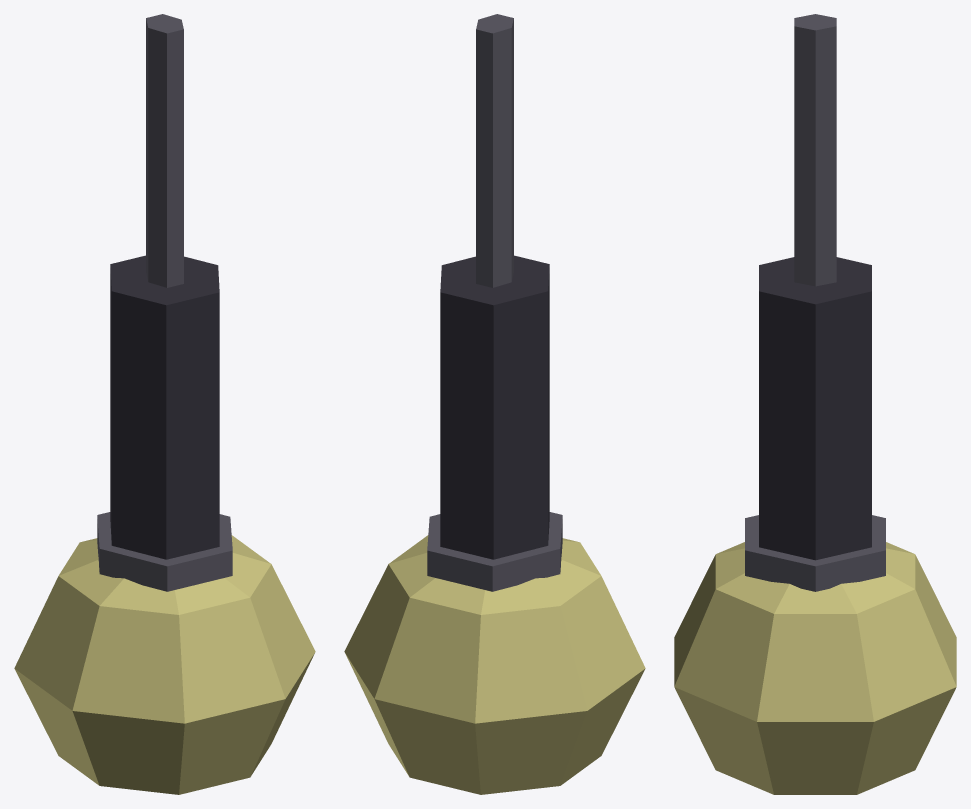
The model's file is Lamp.fbx.
3 renders of one model, left to right at view 1: azimuth 30°, elevation 25°; view 2: azimuth 150°, elevation 25°; view 3: azimuth 270°, elevation 25°, orthographic.
Parts seen in each view (by area): view 1: sphere, cylinder_1, cylinder, cylinder_2; view 2: sphere, cylinder_1, cylinder, cylinder_2; view 3: sphere, cylinder_1, cylinder, cylinder_2.
Boxes of the visible parts, box(x1,y1,x2,y2) form: sphere: box(14, 535, 315, 794); cylinder_1: box(110, 255, 219, 559); cylinder: box(146, 14, 183, 287); cylinder_2: box(97, 512, 232, 591); sphere: box(344, 535, 645, 794); cylinder_1: box(440, 255, 549, 559); cylinder: box(476, 14, 513, 287); cylinder_2: box(427, 512, 562, 591); sphere: box(674, 542, 956, 794); cylinder_1: box(759, 257, 871, 560); cylinder: box(794, 14, 836, 286); cylinder_2: box(745, 515, 885, 591).
Size of the model in its own units: 12.5 by 37.5 by 12.5.
3 materials, 3 textured.
